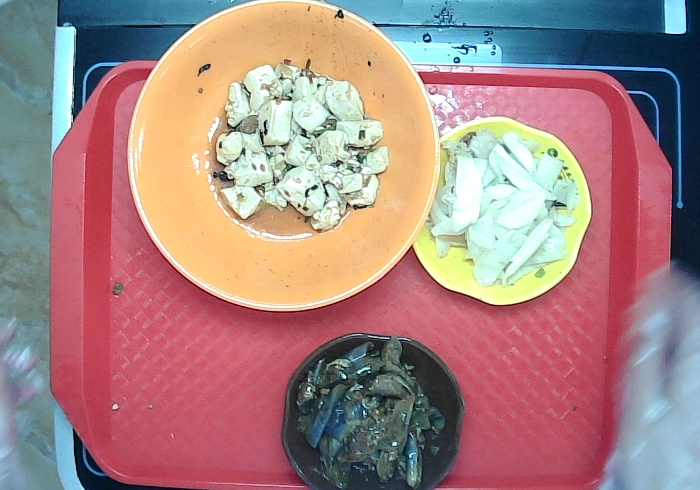YKMZ-Huang_Se_Ao_Bian_Wan: (410, 119, 594, 298)
YKMZ-Ju_Se_Tang_Wan: (121, 1, 436, 316)
YKMZ-Ka_Fei_Ao_Bian_Wan: (285, 330, 461, 490)
